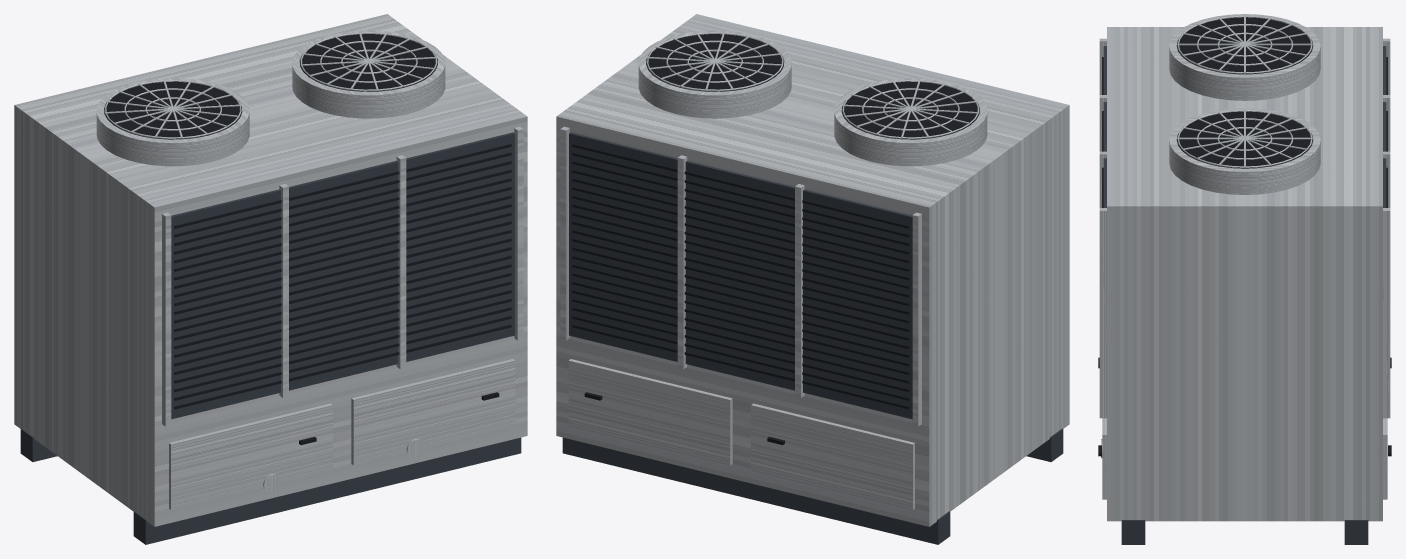
The model's file is ac-unit.glb.
3 views of the same model, side by side, from view 1: azimuth 30°, elevation 25°; view 2: azimuth 150°, elevation 25°; view 3: azimuth 270°, elevation 25° (orthographic).
Parts seen in each view (by area): view 1: AcUnit, ac-grille, ac-fan-housing (×2), ac-fan (×2); view 2: AcUnit, ac-grille, ac-fan-housing (×2), ac-fan (×2); view 3: AcUnit, ac-fan-housing (×2), ac-fan (×2), ac-grille (×2).
Part boxes in pixels (x1=…): AcUnit: x1=14, y1=14, x2=527, y2=544; ac-grille: x1=171, y1=132, x2=514, y2=419; ac-fan-housing (×2): x1=96, y1=30, x2=445, y2=166; ac-fan (×2): x1=104, y1=34, x2=437, y2=139; AcUnit: x1=556, y1=14, x2=1069, y2=544; ac-grille: x1=569, y1=132, x2=912, y2=419; ac-fan-housing (×2): x1=638, y1=30, x2=987, y2=166; ac-fan (×2): x1=646, y1=34, x2=979, y2=139; AcUnit: x1=1098, y1=15, x2=1391, y2=544; ac-fan-housing (×2): x1=1169, y1=14, x2=1320, y2=194; ac-fan (×2): x1=1176, y1=17, x2=1313, y2=168; ac-grille (×2): x1=1103, y1=46, x2=1386, y2=207.
Bounding box in the file's own units: 2.88 × 2.7 × 1.98.
Materials: 3 (1 with a texture image).
